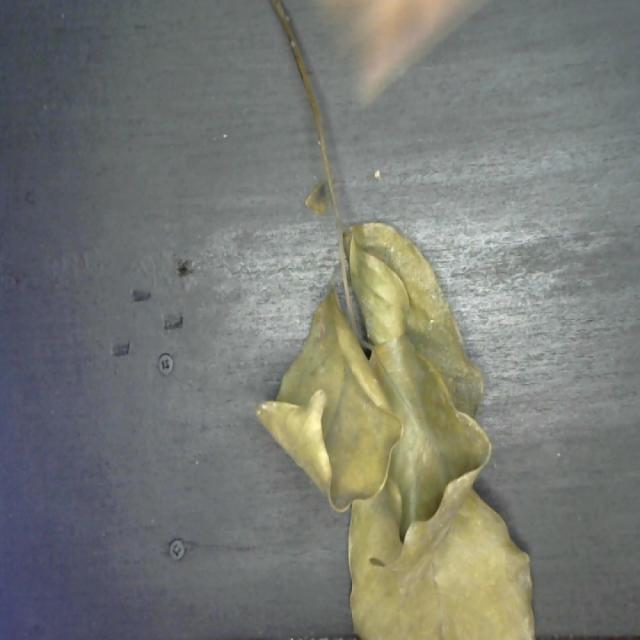biodegradable: (248, 211, 542, 640)
